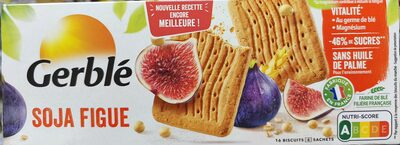Biscuits Soja Figue: (20, 7, 380, 138)
